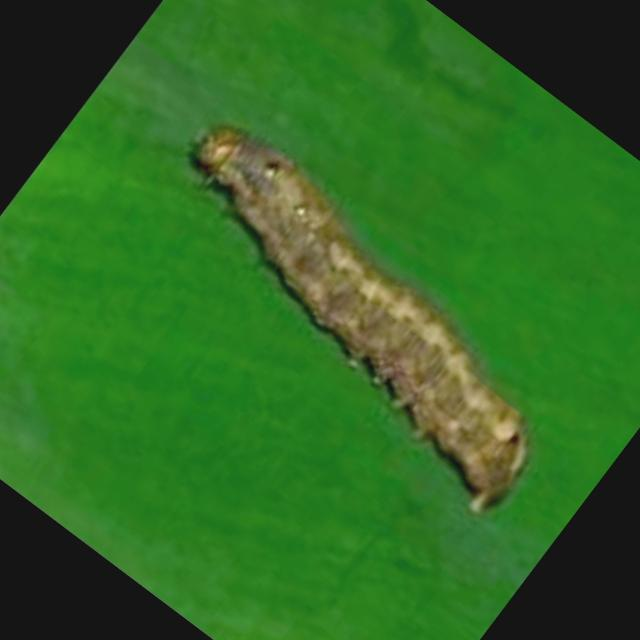Tobacco cutworm: (57, 34, 640, 568)
